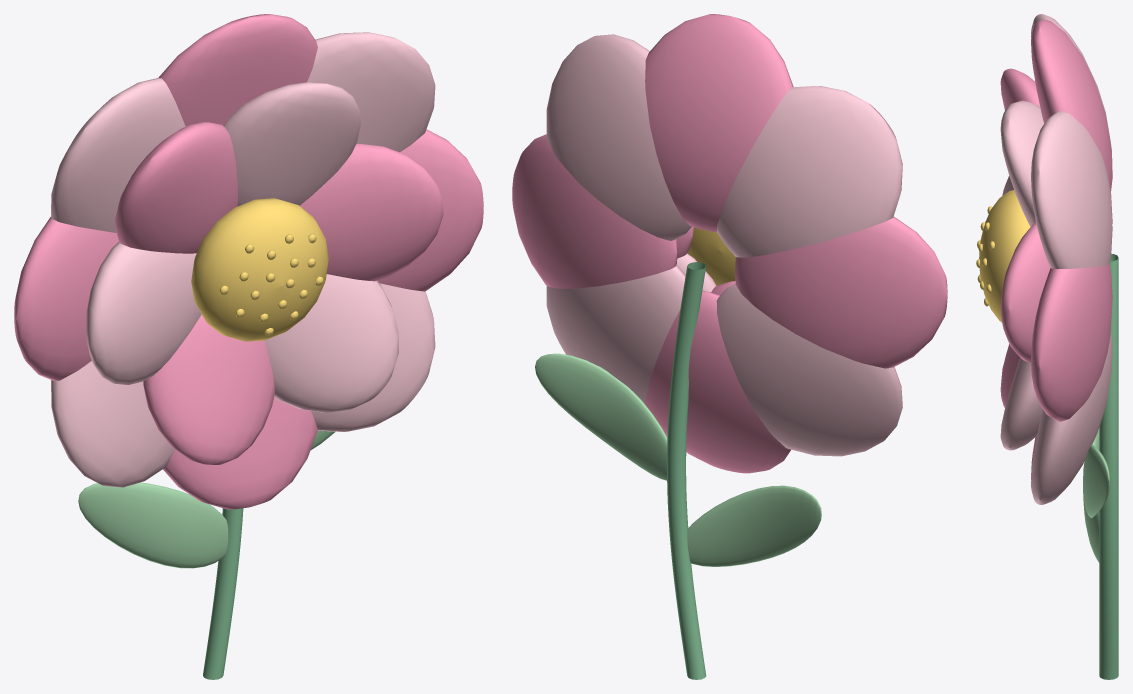
Rendered from pink-blossom.glb.
The picture shows the model from 3 angles, left to right: view 1: azimuth 30°, elevation 25°; view 2: azimuth 150°, elevation 25°; view 3: azimuth 270°, elevation 25°; orthographic projection. The views are drawn at different scales.
Visible parts, largest first — view 1: Rounded pink petal (×14), Golden flower center, Soft rounded leaf, Curved stem; view 2: Rounded pink petal (×8), Soft rounded leaf (×2), Curved stem, Golden flower center; view 3: Rounded pink petal (×10), Curved stem, Golden flower center, Soft rounded leaf (×2).
Boxes of the visible parts, x1,y1,x2,y2 form: Rounded pink petal (×14): (14, 14, 483, 509); Golden flower center: (191, 198, 328, 341); Soft rounded leaf: (78, 482, 228, 568); Curved stem: (203, 508, 243, 679); Rounded pink petal (×8): (512, 14, 947, 473); Soft rounded leaf (×2): (535, 353, 821, 566); Curved stem: (667, 262, 706, 679); Golden flower center: (687, 227, 735, 285); Rounded pink petal (×10): (1000, 14, 1112, 504); Curved stem: (1099, 253, 1118, 679); Golden flower center: (979, 190, 1030, 322); Soft rounded leaf (×2): (1083, 428, 1110, 562).
Size of the model in its own units: 2.36 by 3.3 by 0.6574.
